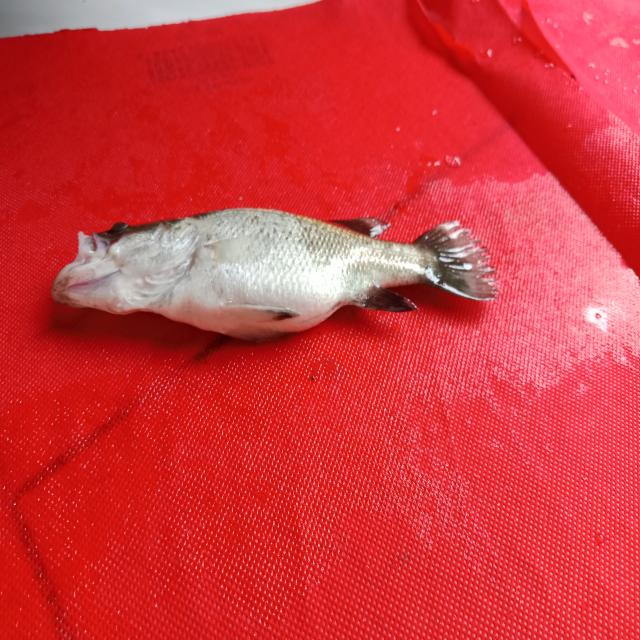ikan: (33, 179, 503, 360)
